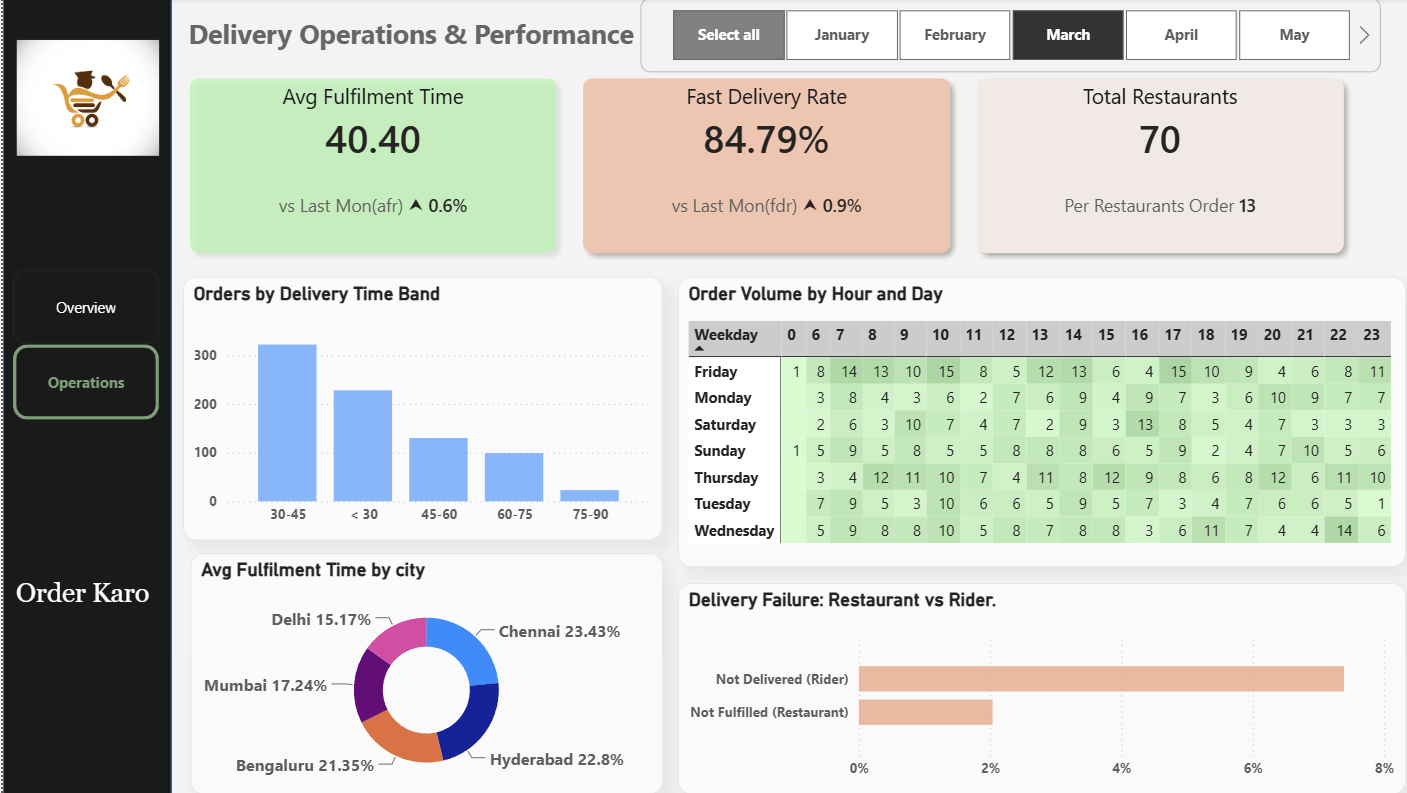

Layout of this report page (visuals, bound fields, positions):
{"tool":"powerbi","page":{"name":"Operations","canvas":[1280,720],"ordinal":1},"visuals":[{"type":"shape","box":[0,0,152.6,720.2],"z":0,"group":"g1"},{"type":"group","id":"g1","title":"Group 1","box":[0,0,152.6,720.2],"z":0},{"type":"image","box":[12.4,20.4,128.9,140.2],"z":1000},{"type":"cardVisual","fields":{"Data":["fooddelivery deliveries.Avg Fulfilment Time","fooddelivery deliveries.Fast Delivery Rate","fooddelivery restaurants.Total Restaurants"]},"box":[144.6,48.2,1092.6,206.2],"z":2000},{"type":"columnChart","title":"Orders by Delivery Time Band","fields":{"Category":["fooddelivery deliveries.Time Band"],"Y":["fooddelivery deliveries.Delivered Count"]},"box":[163.3,251.7,433.8,238.3],"z":3000},{"type":"donutChart","fields":{"Category":["fooddelivery restaurants.city"],"Y":["fooddelivery deliveries.Avg Fulfilment Time"]},"box":[169.6,502,427.4,218.2],"z":4000},{"type":"textbox","box":[6.7,519.5,137.9,48.2],"z":5000},{"type":"pivotTable","title":"Order Volume by Hour and Day","fields":{"Columns":["fooddelivery orders.Order Hour"],"Rows":["fooddelivery orders.DayOfWeekNumber"],"Values":["fooddelivery orders.countorderid"]},"box":[610.6,252.1,658,262.3],"z":7000},{"type":"textbox","box":[162.7,11.6,424.9,54.2],"z":7001},{"type":"slicer","fields":{"Values":["DateTable.Date.Variation.Date Hierarchy.Month"]},"box":[577.1,0,669.5,66.9],"z":7002},{"type":"barChart","title":"Delivery Failure: Restaurant vs Rider.","fields":{"Category":["Failure Stages.Stage"],"Y":["Failure Stages.Failure Rate by Stage"]},"box":[610.6,529.1,658,191.1],"z":7003},{"type":"pageNavigator","box":[9,245.4,132.3,137.9],"z":8000,"group":"g1"}]}

Visuals, with their boxes on the page's 1280x720 design canvas (x1, y1, x2, y2). These are canvas units, not pixel positions in the 1407x793 screenshot, which may show the page scaled, cropped or inside an application window:
shape: x1=0 y1=0 x2=153 y2=720
"Group 1" group: x1=0 y1=0 x2=153 y2=720
image: x1=12 y1=20 x2=141 y2=161
cardVisual - fooddelivery deliveries.Avg Fulfilment Time x fooddelivery deliveries.Fast Delivery Rate: x1=145 y1=48 x2=1237 y2=254
"Orders by Delivery Time Band" columnChart: x1=163 y1=252 x2=597 y2=490
donutChart - fooddelivery restaurants.city x fooddelivery deliveries.Avg Fulfilment Time: x1=170 y1=502 x2=597 y2=720
textbox: x1=7 y1=520 x2=145 y2=568
"Order Volume by Hour and Day" pivotTable: x1=611 y1=252 x2=1269 y2=514
textbox: x1=163 y1=12 x2=588 y2=66
slicer - DateTable.Date.Variation.Date Hierarchy.Month: x1=577 y1=0 x2=1247 y2=67
"Delivery Failure: Restaurant vs Rider." barChart: x1=611 y1=529 x2=1269 y2=720
pageNavigator: x1=9 y1=245 x2=141 y2=383
